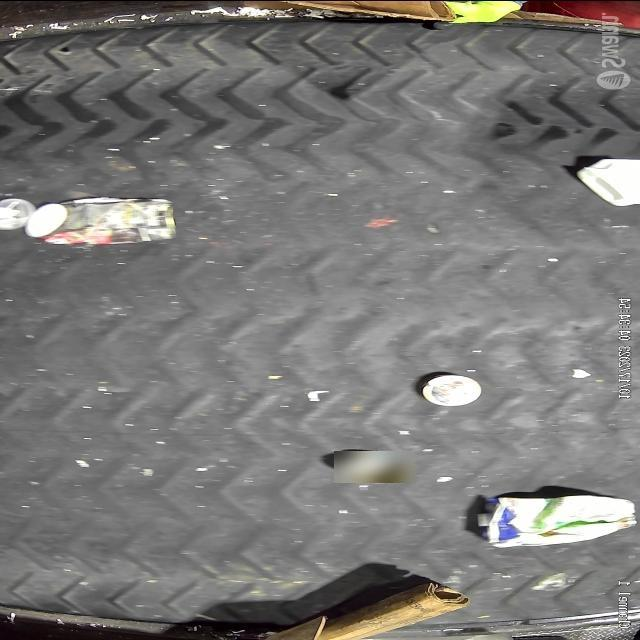non_white_jug: (477, 493, 638, 548)
